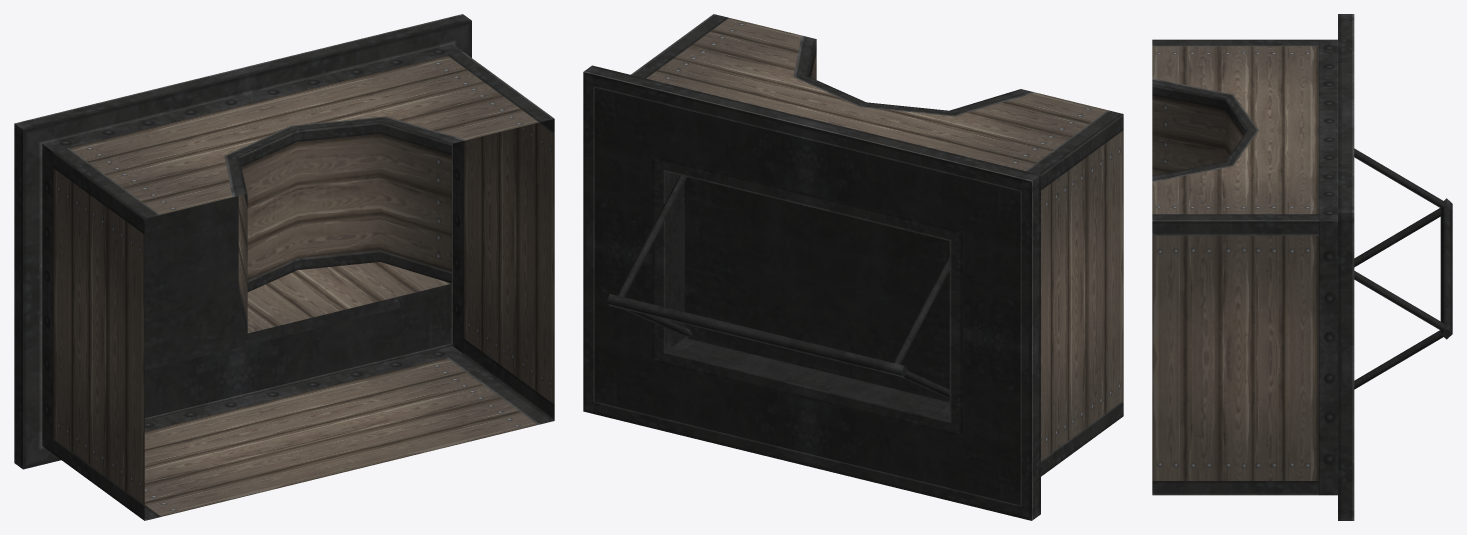
File: Bar_Grill.fbx
3 renders of one model, left to right at view 1: azimuth 30°, elevation 25°; view 2: azimuth 150°, elevation 25°; view 3: azimuth 270°, elevation 25°, orthographic. The views are drawn at different scales.
Parts seen in each view (by area): view 1: Bar_Grill; view 2: Bar_Grill; view 3: Bar_Grill.
Boxes of the visible parts, left/top/right/bottom form: Bar_Grill: left=14, top=14, right=554, bottom=520; Bar_Grill: left=583, top=14, right=1123, bottom=520; Bar_Grill: left=1152, top=14, right=1452, bottom=520.
Bounding box in the file's own units: 2.57 × 1.86 × 1.64.
